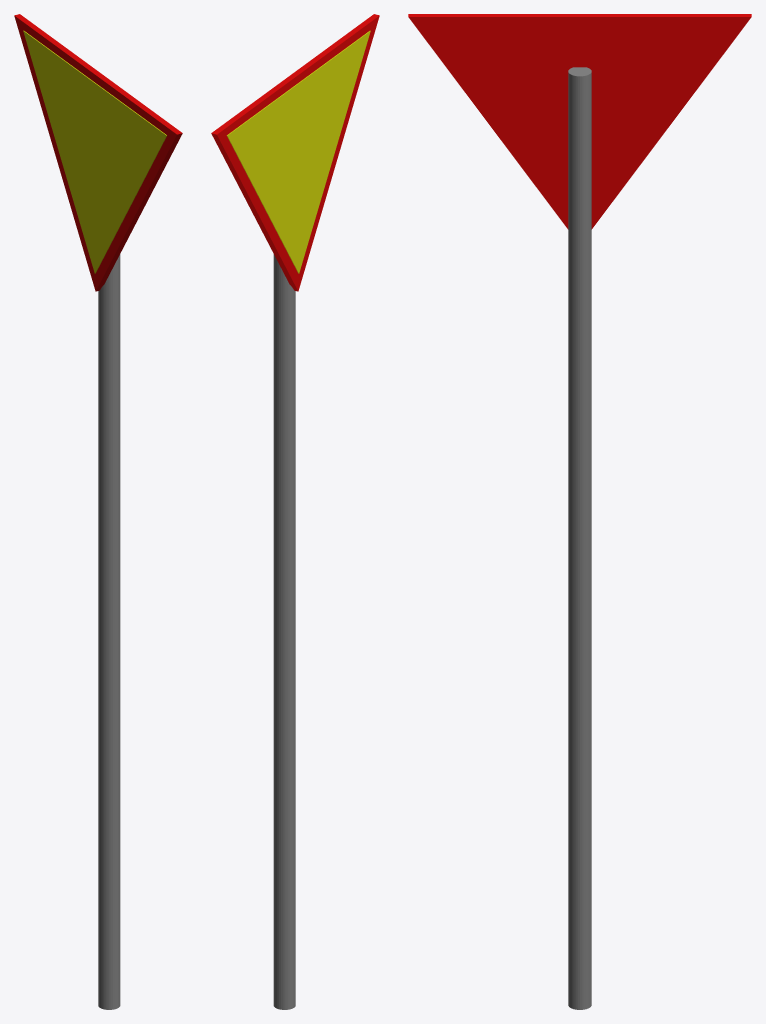
Rendered from signsTringle.fbx.
3 views of the same model, side by side, from view 1: azimuth 30°, elevation 25°; view 2: azimuth 150°, elevation 25°; view 3: azimuth 270°, elevation 25° (orthographic). The views are drawn at different scales.
Parts seen in each view (by area): view 1: Cylinder, Plane.000, Plane.001; view 2: Cylinder, Plane.000, Plane.001; view 3: Plane.001, Cylinder.
Part boxes in pixels (x1,y1,x2,y2): Cylinder: (98,254,120,1009); Plane.000: (23,30,166,273); Plane.001: (14,14,182,291); Cylinder: (273,254,295,1009); Plane.000: (227,30,370,273); Plane.001: (211,14,379,291); Plane.001: (408,14,751,229); Cylinder: (568,67,591,1009).
Bounding box in the file's own units: 42.3 × 1564 × 495.
